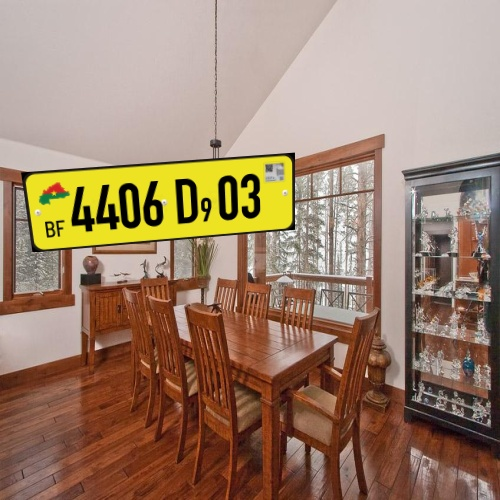plate: (13, 150, 307, 255)
